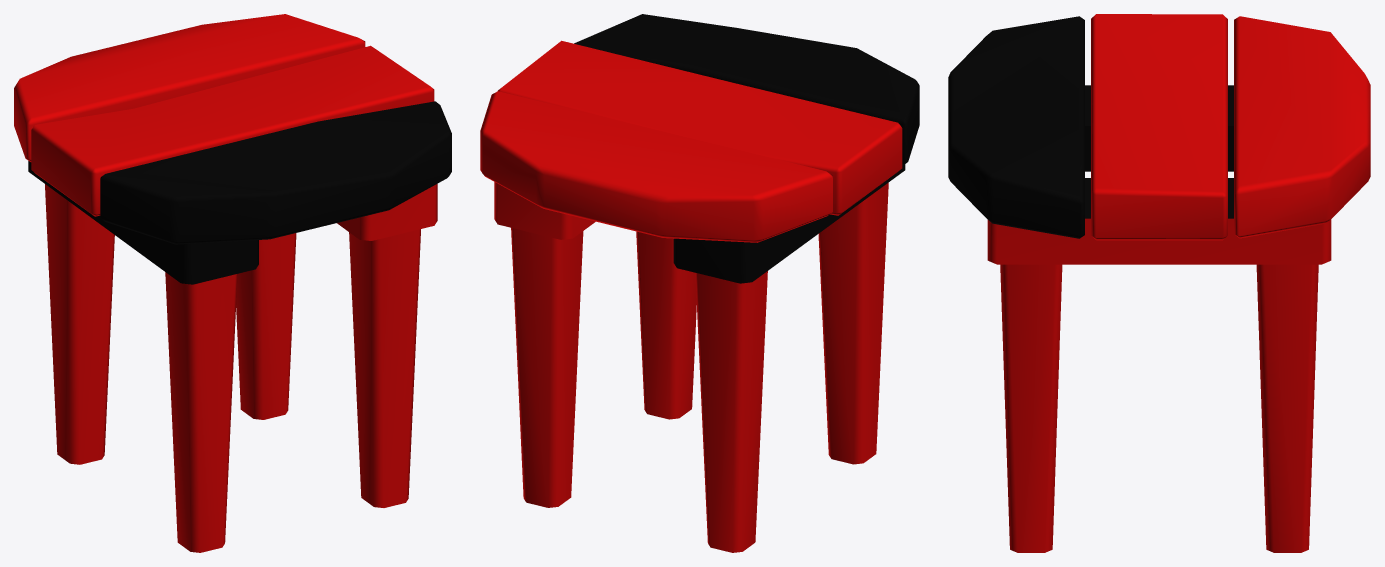
The model's file is Stool.fbx.
3 views of the same model, side by side, from view 1: azimuth 30°, elevation 25°; view 2: azimuth 150°, elevation 25°; view 3: azimuth 270°, elevation 25° (orthographic). The views are drawn at different scales.
Visible parts, largest first — view 1: Stool; view 2: Stool; view 3: Stool.
Boxes of the visible parts, x1,y1,x2,y2 form: Stool: (14, 14, 451, 552); Stool: (480, 14, 919, 552); Stool: (948, 14, 1370, 552).
Size of the model in its own units: 47.83 by 47.83 by 49.38.
